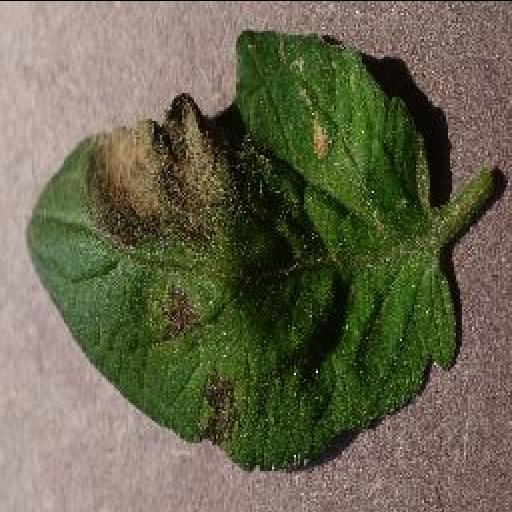disease_tomato: (23, 28, 461, 468)
